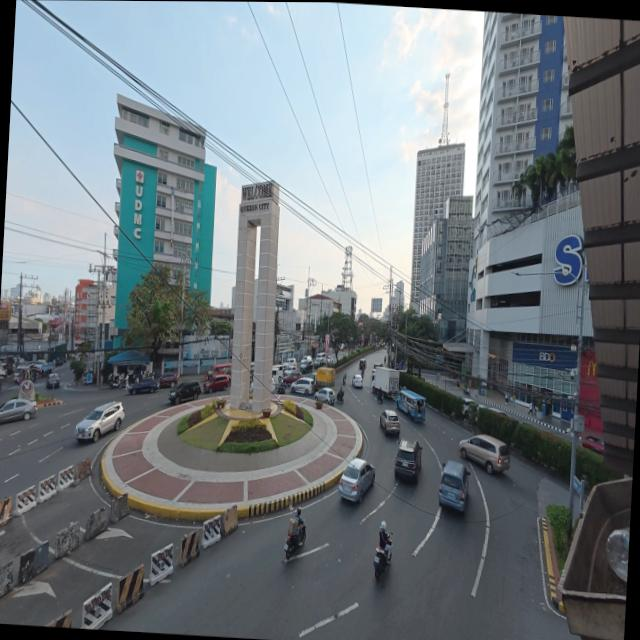Jeepneys: (398, 389, 425, 421), (205, 363, 232, 381)
car: (459, 436, 510, 474), (76, 402, 124, 442), (438, 461, 469, 511), (339, 459, 374, 502), (394, 438, 423, 483), (0, 400, 36, 423), (169, 380, 202, 404), (380, 410, 400, 434), (129, 378, 158, 394), (204, 376, 231, 393), (582, 434, 604, 454), (291, 377, 314, 395), (315, 387, 335, 405), (158, 372, 178, 388), (462, 398, 477, 416), (284, 371, 302, 385), (14, 366, 29, 382), (487, 407, 508, 417), (46, 373, 60, 388), (300, 356, 313, 372), (38, 363, 54, 376), (351, 374, 364, 389), (284, 365, 299, 376), (358, 359, 368, 371), (281, 360, 290, 371), (54, 357, 65, 366), (372, 363, 383, 372), (303, 374, 315, 382), (34, 360, 45, 368), (327, 354, 335, 365), (288, 358, 297, 366), (340, 344, 345, 351), (0, 380, 2, 392)
motorcycle: (285, 523, 306, 559), (374, 547, 388, 579), (109, 378, 125, 390), (337, 391, 344, 403), (378, 391, 383, 403), (464, 387, 471, 395), (343, 377, 346, 385)
trucks: (373, 366, 399, 397), (315, 367, 335, 390)
vans: (314, 353, 326, 366)
